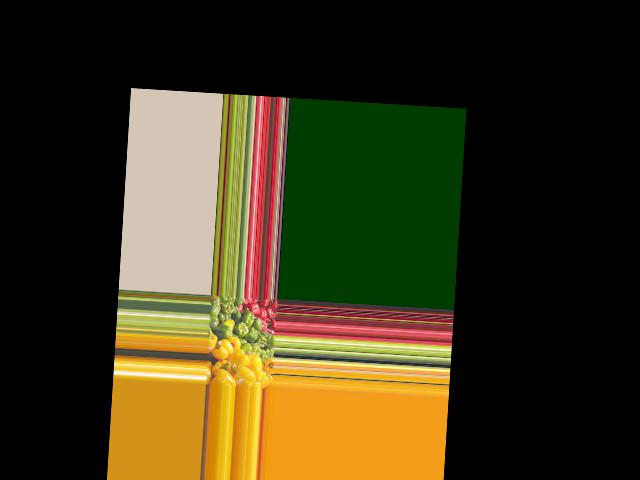bell_pepper: (208, 295, 221, 311)
